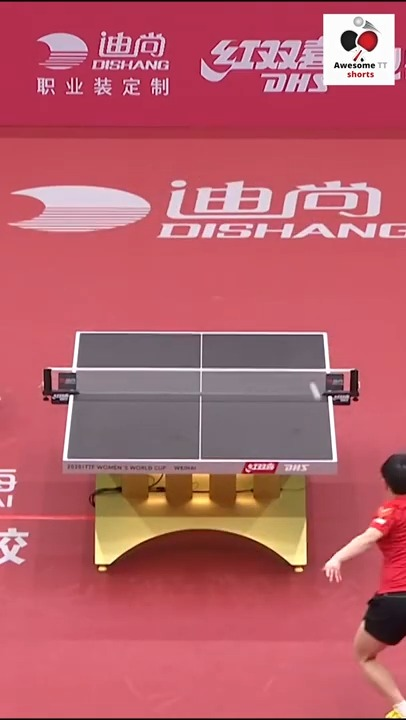Ball: (309, 384, 321, 401)
